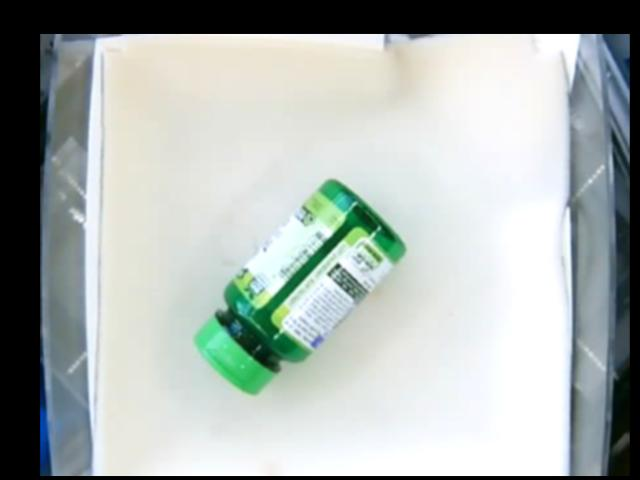Bottle: (194, 180, 406, 400)
